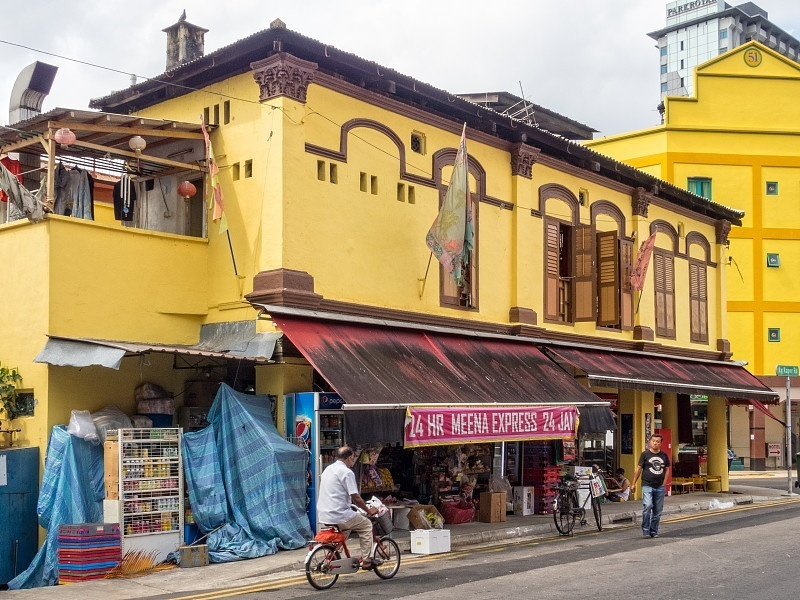non-vehicle: (309, 507, 391, 588), (553, 481, 588, 535)
